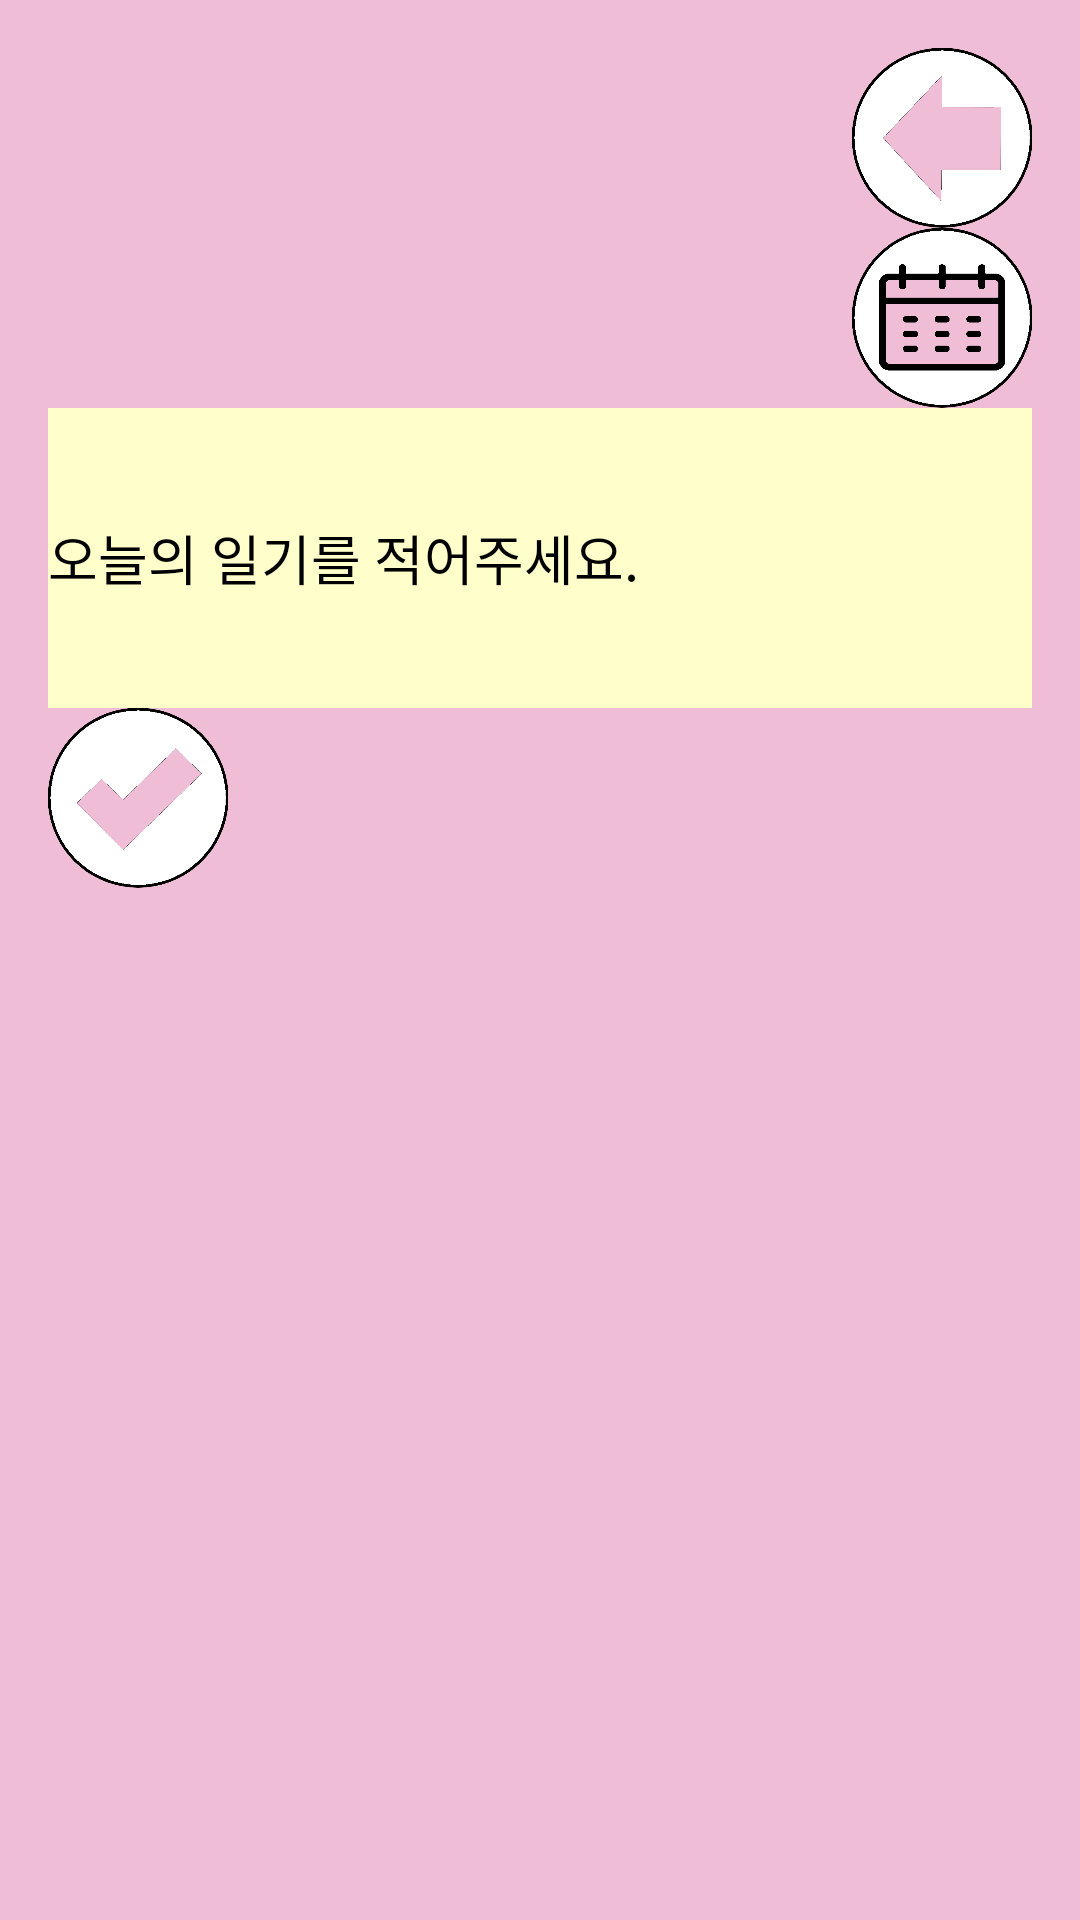

Named icons in this screenshot (1080×1920) and their bounding boxes, (x1, y1, x2, y2):
calendar edit: (852, 228, 1032, 408)
goback edit: (852, 48, 1032, 228)
save edit: (48, 708, 228, 888)
